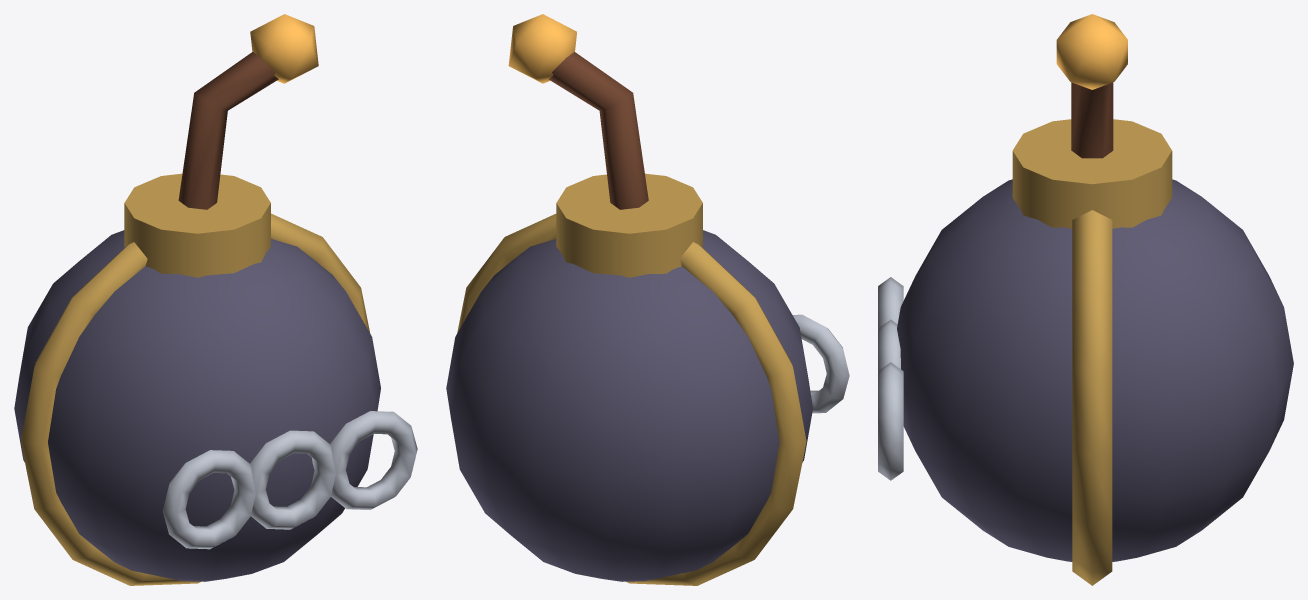
Rendered from smoke_bomb.fbx.
The picture shows the model from 3 angles, left to right: view 1: azimuth 30°, elevation 25°; view 2: azimuth 150°, elevation 25°; view 3: azimuth 270°, elevation 25°; orthographic projection. The views are drawn at different scales.
Parts seen in each view (by area): view 1: smoke_bomb; view 2: smoke_bomb; view 3: smoke_bomb.
Part boxes in pixels (<box>): smoke_bomb: <box>14,14,417,585</box>; smoke_bomb: <box>446,14,849,585</box>; smoke_bomb: <box>878,14,1293,585</box>.
Bounding box in the file's own units: 0.53 × 0.785 × 0.4952.
